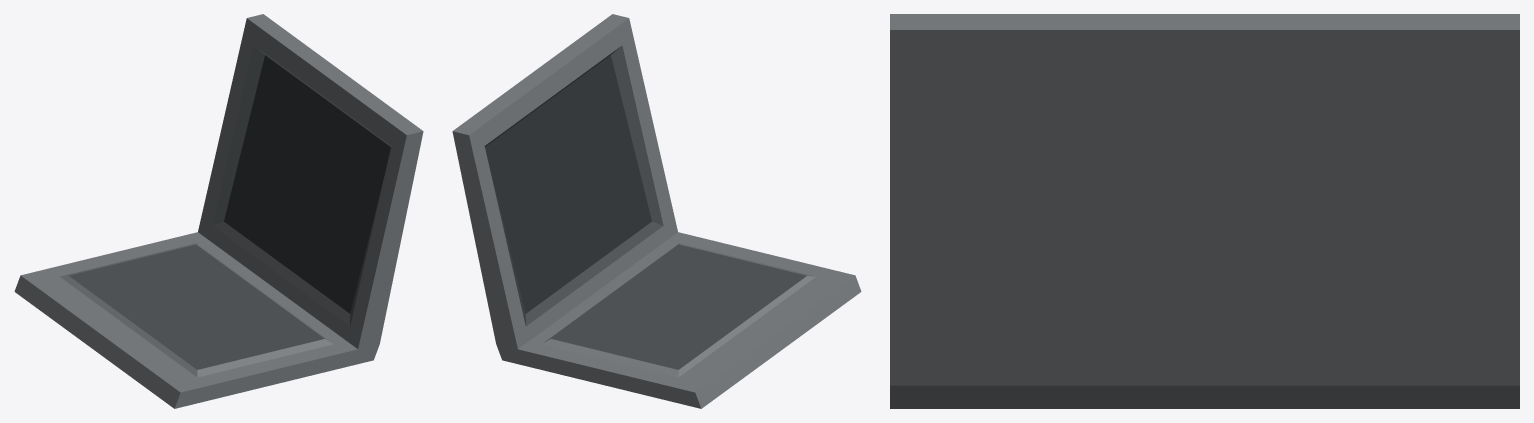
File: laptop.fbx
The picture shows the model from 3 angles, left to right: view 1: azimuth 30°, elevation 25°; view 2: azimuth 150°, elevation 25°; view 3: azimuth 270°, elevation 25°; orthographic projection. The views are drawn at different scales.
Visible parts, largest first — view 1: laptop; view 2: laptop; view 3: laptop.
Part boxes in pixels (box(x1,y1,x2,y2)): laptop: box(14, 14, 423, 408); laptop: box(452, 14, 861, 408); laptop: box(890, 14, 1519, 408).
Bounding box in the file's own units: 1.94 × 1.68 × 2.16.
Materials: 1 (1 with a texture image).
